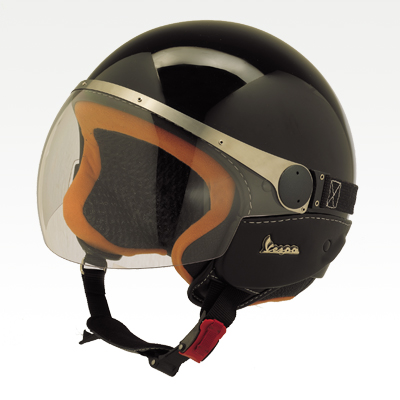helmet: (71, 26, 355, 277)
